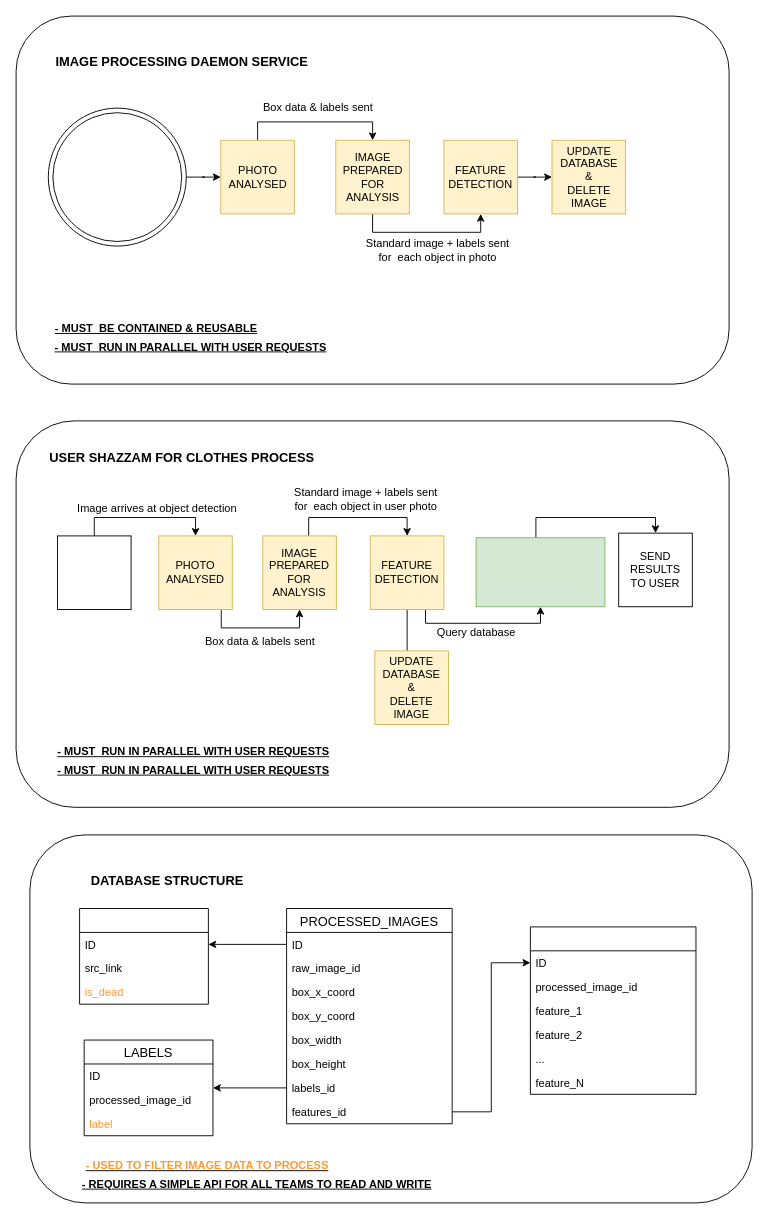
This 768x1219 diagram has some shape labels left out. The box of each missing label's shape, as (x1, y1, x2, y2) in pixels:
GENERATE RECOMMENDATIONS: (475, 537, 605, 607)
IMAGE ARRIVES IN S3: (47, 107, 186, 246)
IMAGE_FEATURE_SETS: (529, 926, 696, 1094)
RAW_IMAGES: (79, 908, 208, 1004)
USER TAKES PHOTO: (57, 535, 131, 610)
